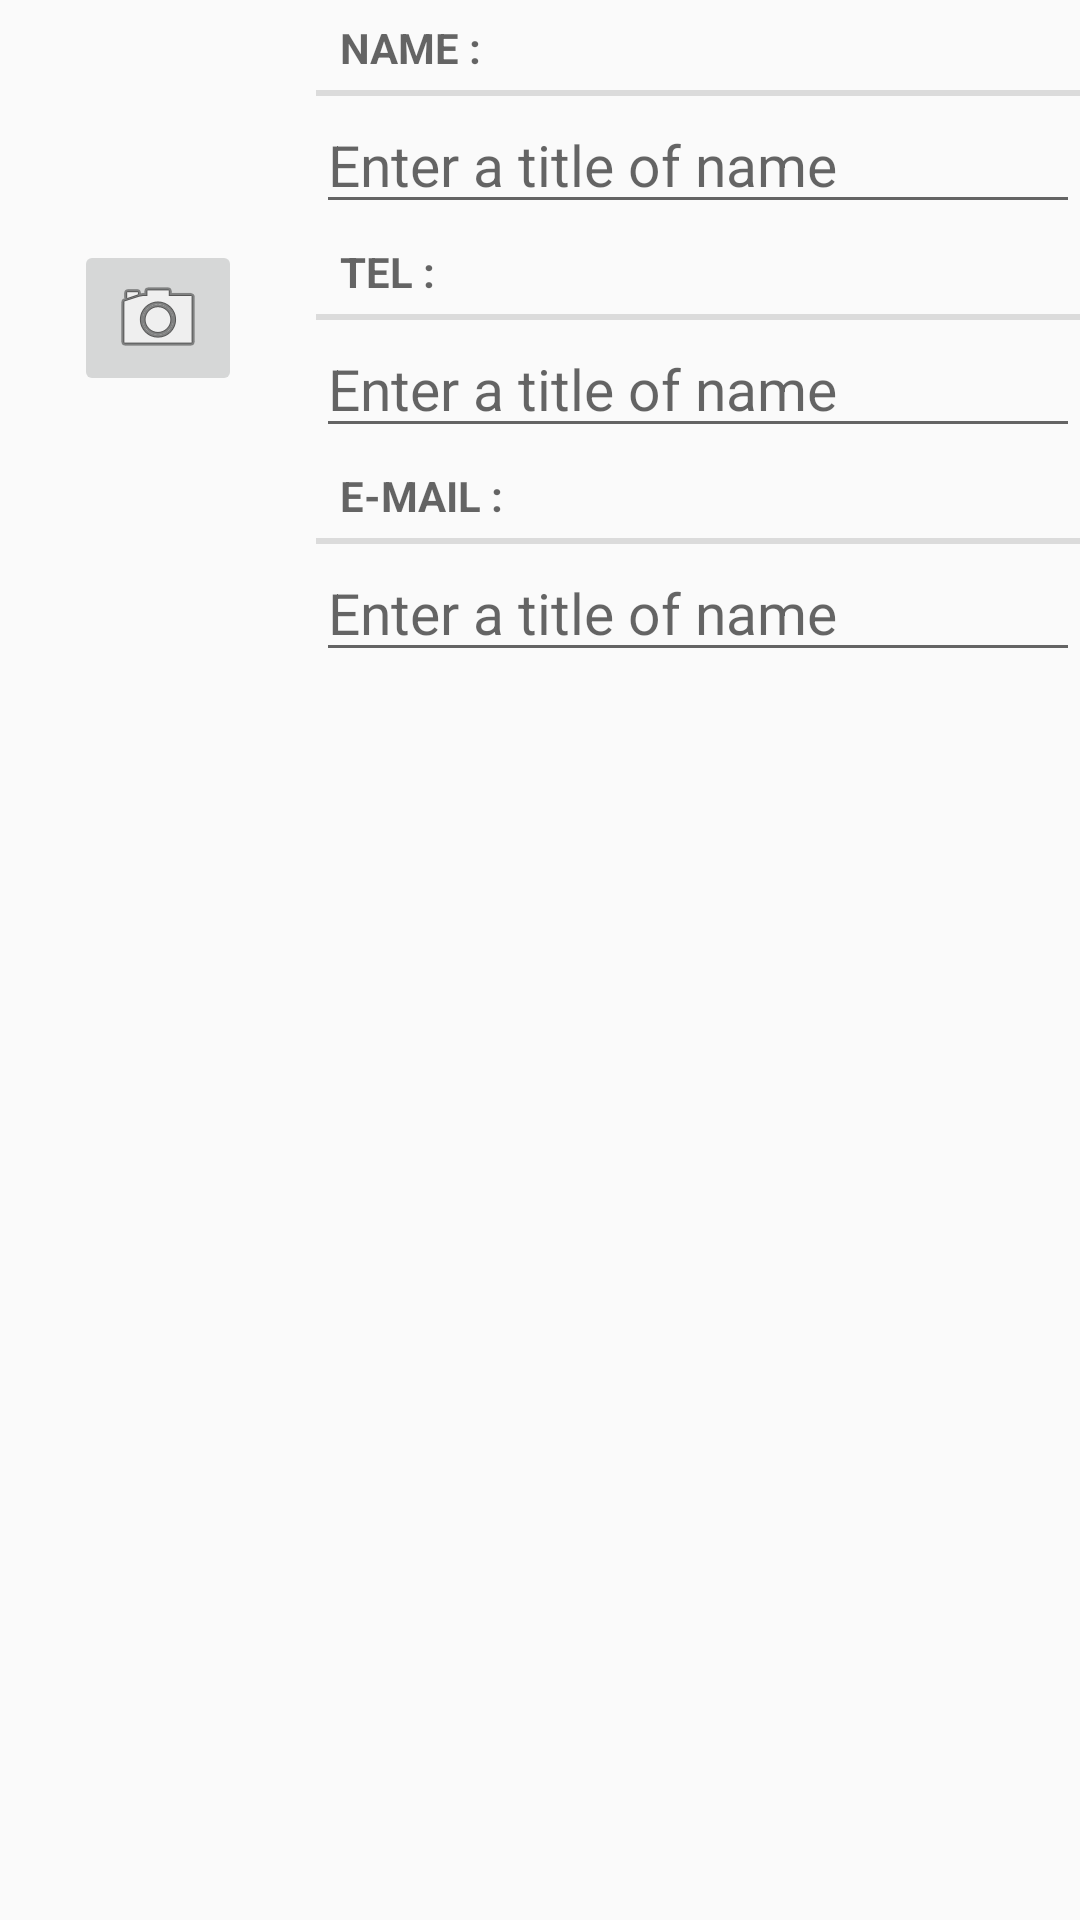

Icon click points for this 1080×1920 phone screenshot, format point (x, y):
camera: point (158, 318)
